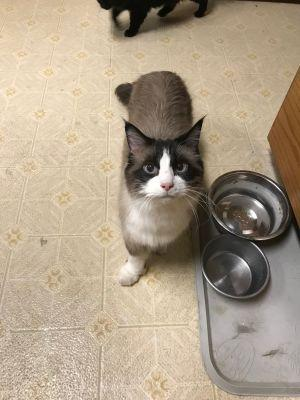ragdoll: (120, 114, 212, 211)
